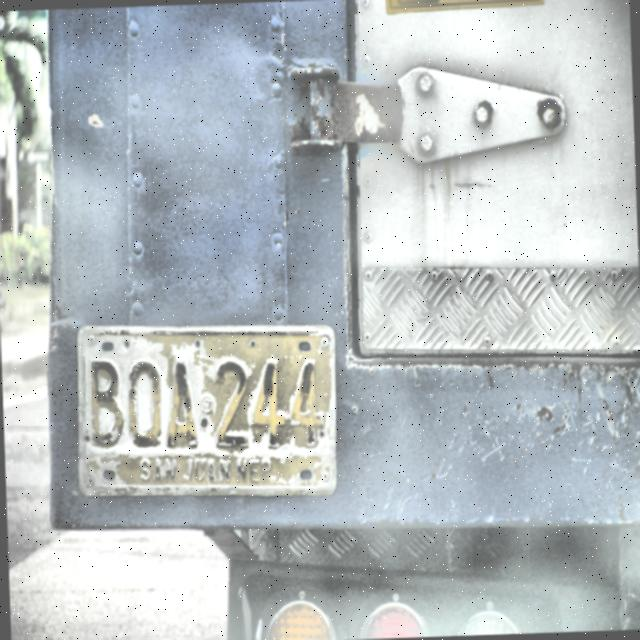2: (212, 354, 252, 452)
4: (285, 352, 326, 448), (250, 354, 288, 452)
A: (162, 353, 198, 452)
B: (85, 356, 125, 448)
Q: (124, 356, 165, 451)
